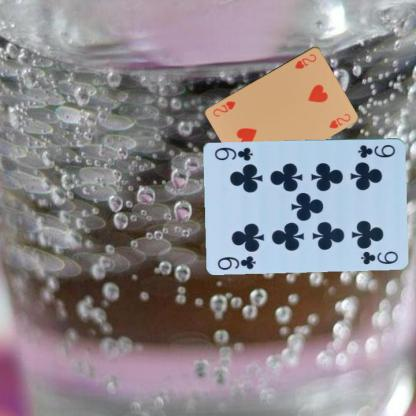2h: (292, 51, 318, 70)
9c: (216, 252, 257, 271), (355, 142, 397, 160)
